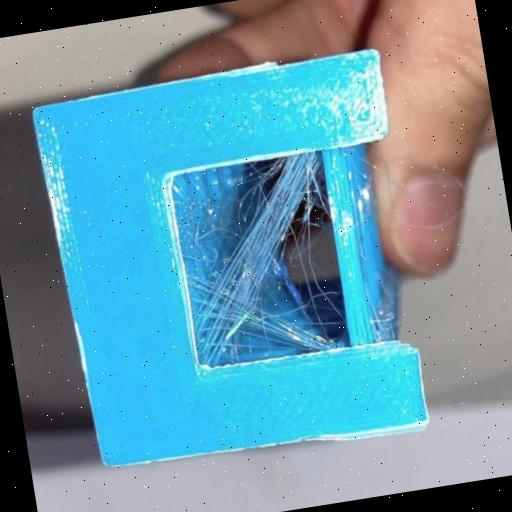stringing: (190, 158, 320, 360), (192, 276, 327, 352)
